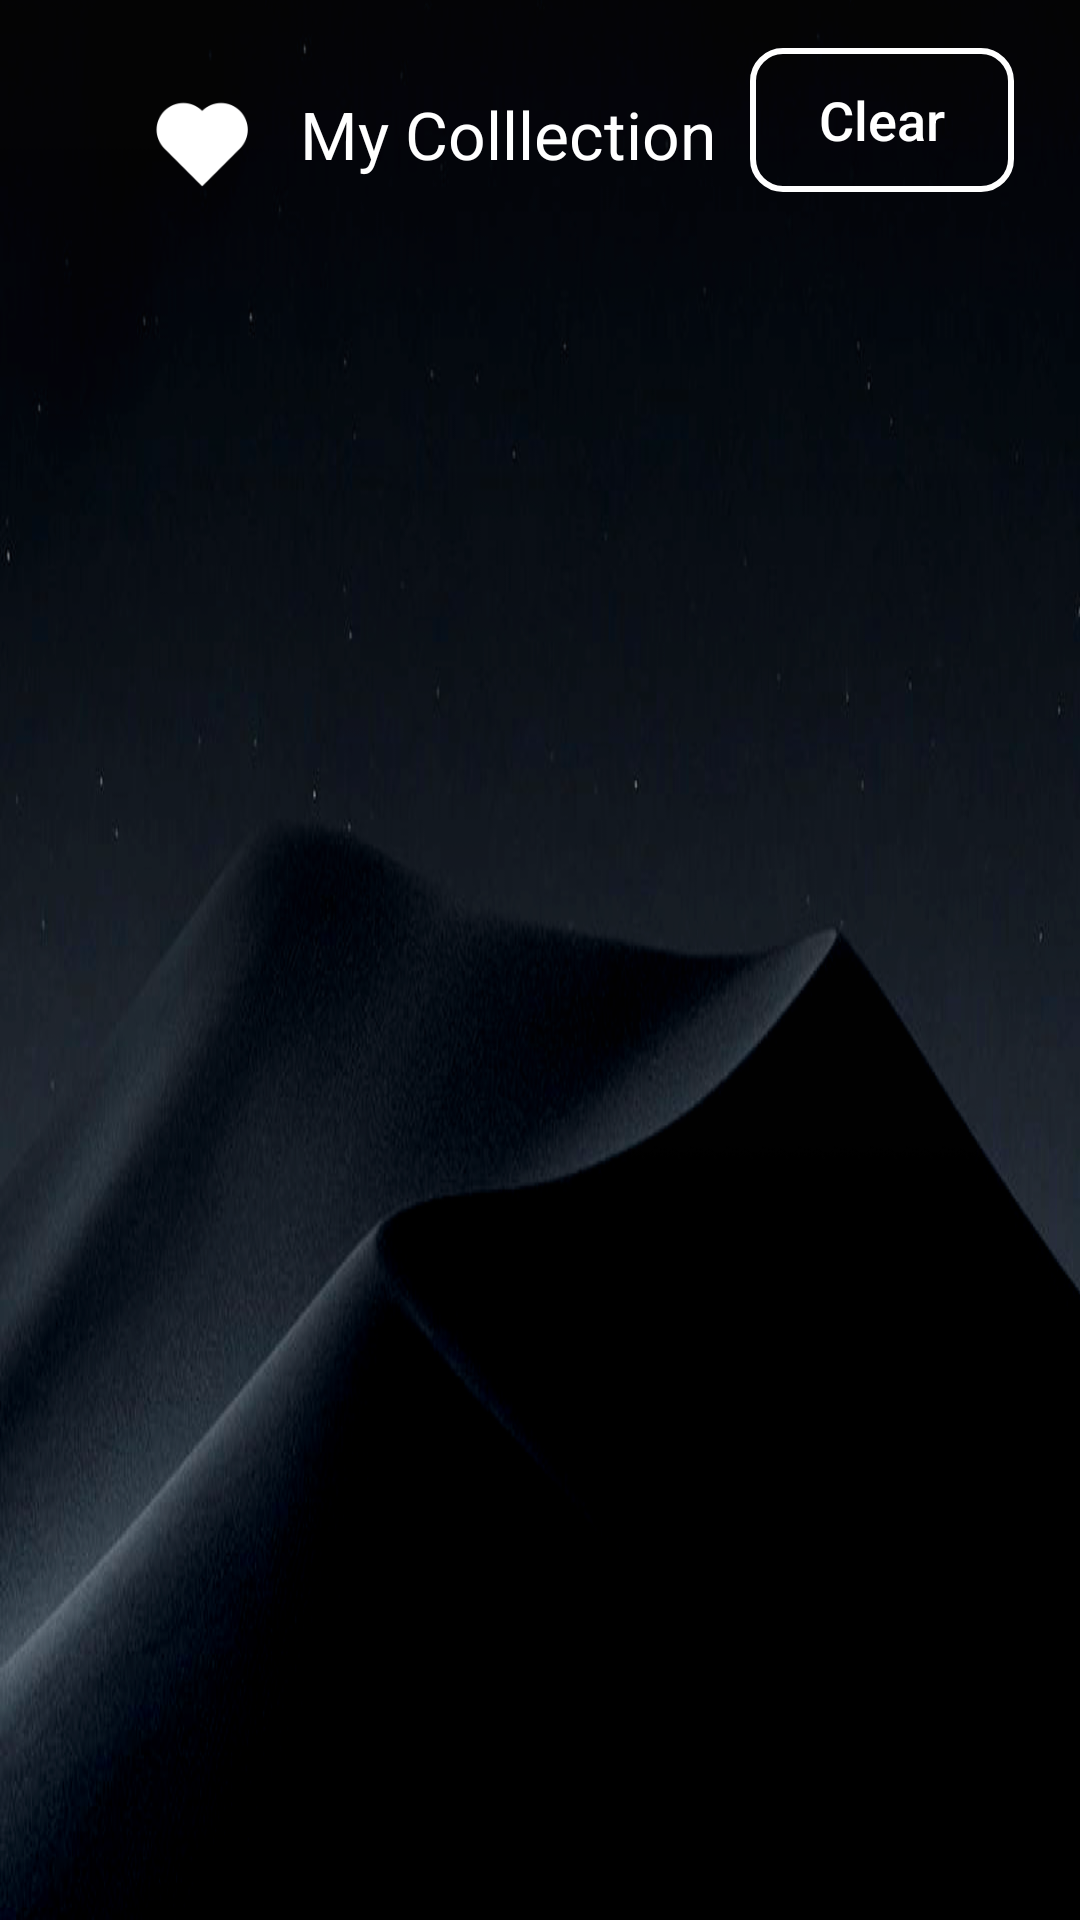

Screen size 1080×1920. Icon name, then its center in pixels as (x,y):
collection: (202,144)
